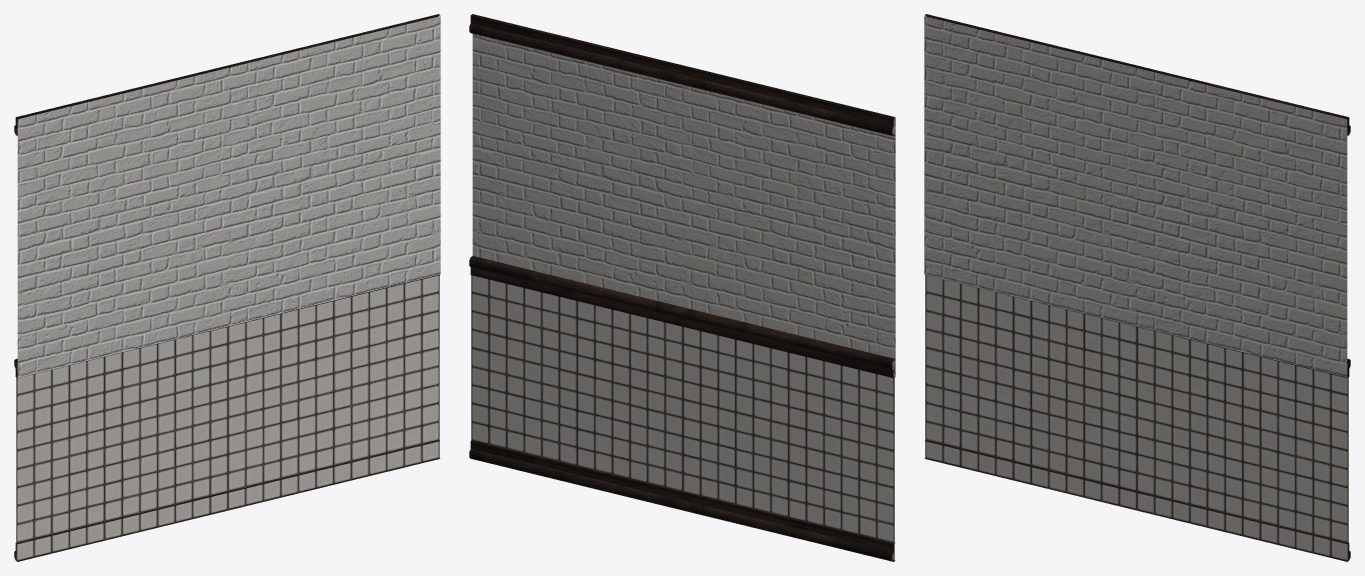
The model's file is tunnel_lab_wall.DAE.
3 renders of one model, left to right at view 1: azimuth 30°, elevation 25°; view 2: azimuth 150°, elevation 25°; view 3: azimuth 330°, elevation 25°, orthographic.
Parts seen in each view (by area): view 1: lab_wall, lab_tiles, lab_wall_details; view 2: lab_wall, lab_tiles, lab_wall_details; view 3: lab_wall, lab_tiles, lab_wall_details.
Boxes of the visible parts, left/top/right/bottom form: lab_wall: left=17, top=16, right=440, bottom=377; lab_tiles: left=16, top=275, right=439, bottom=560; lab_wall_details: left=14, top=14, right=440, bottom=561; lab_wall: left=472, top=33, right=895, bottom=376; lab_tiles: left=471, top=275, right=894, bottom=561; lab_wall_details: left=469, top=14, right=895, bottom=561; lab_wall: left=924, top=16, right=1347, bottom=377; lab_tiles: left=925, top=275, right=1348, bottom=560; lab_wall_details: left=924, top=14, right=1350, bottom=561.
Size of the model in its own units: 4 by 0.0542 by 4.01.
